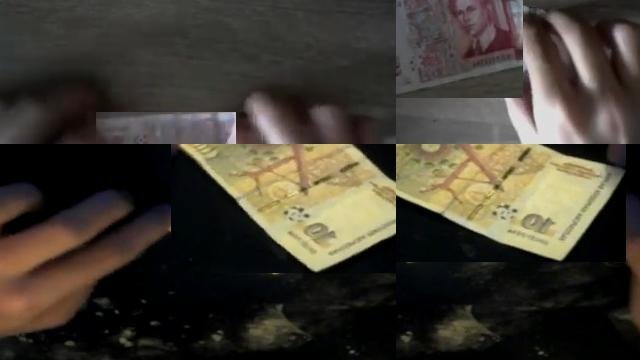10leva: (177, 144, 396, 273), (396, 144, 626, 262)
5leva: (396, 0, 523, 97), (96, 112, 236, 144)
